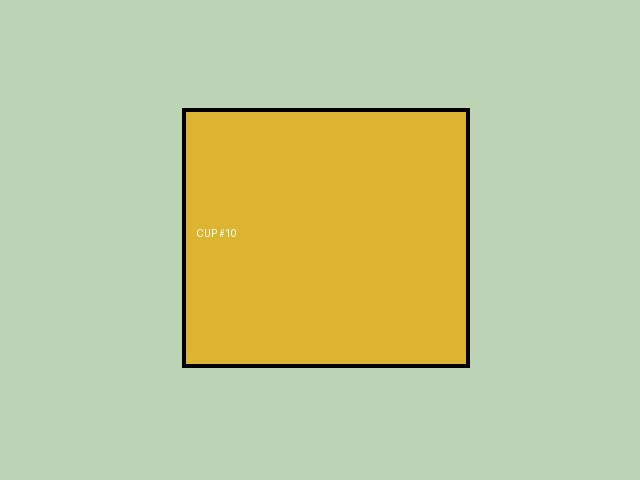cup: (182, 108, 469, 367)
